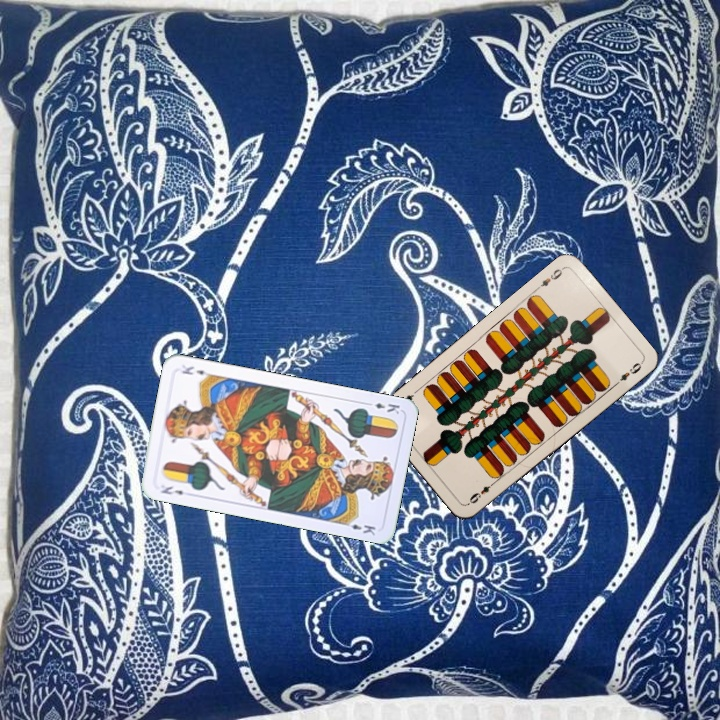E9: (464, 477, 498, 507), (532, 264, 567, 293)
EK: (362, 398, 402, 416), (157, 482, 186, 497)
